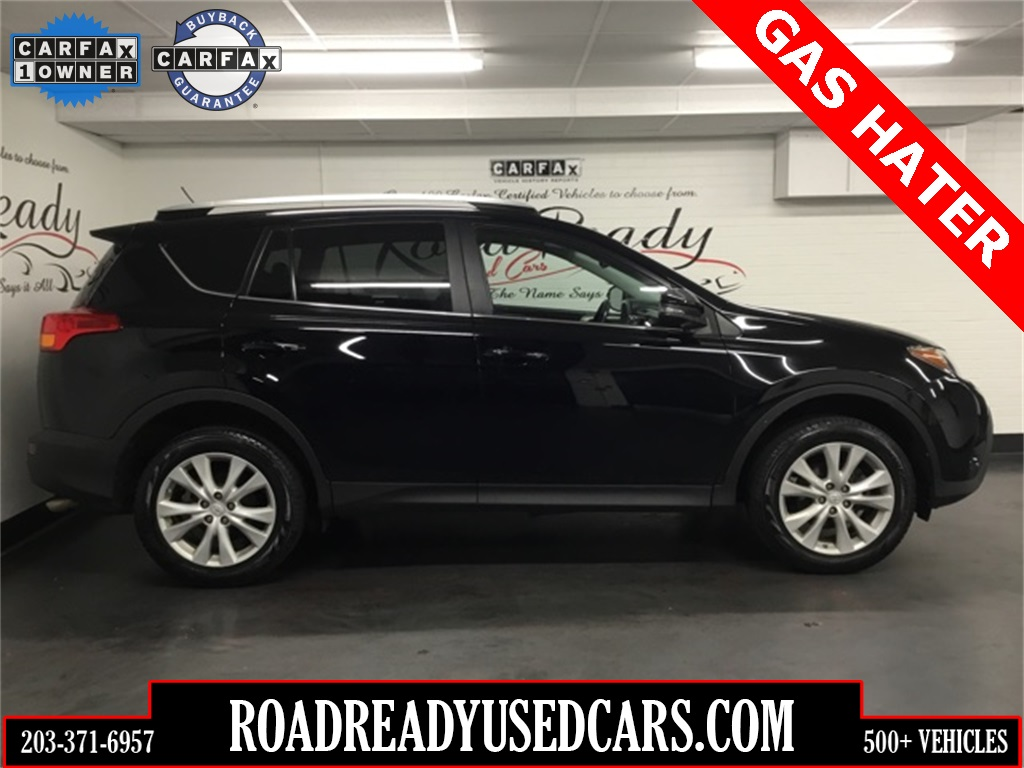Toyota RAV-4: (28, 192, 996, 590)
